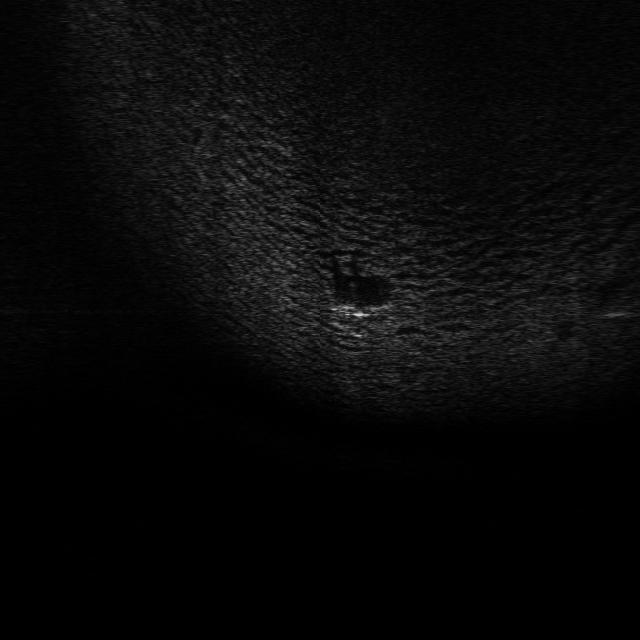plane: (332, 300, 391, 318)
